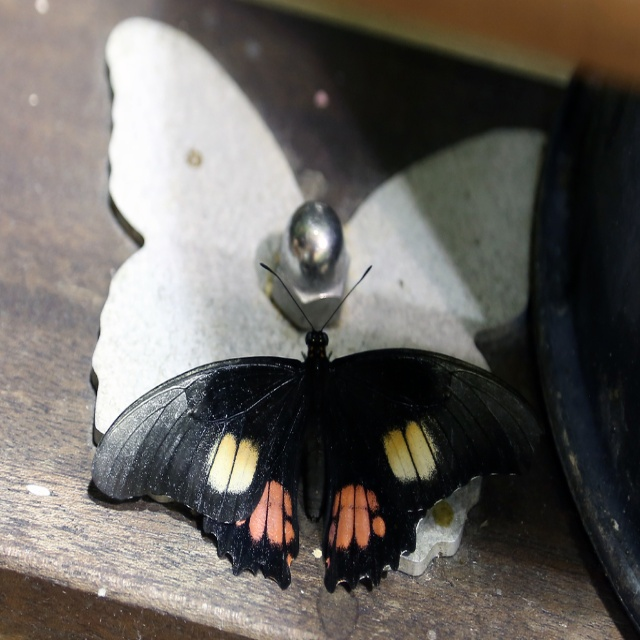Butterfly: (103, 177, 548, 612)
